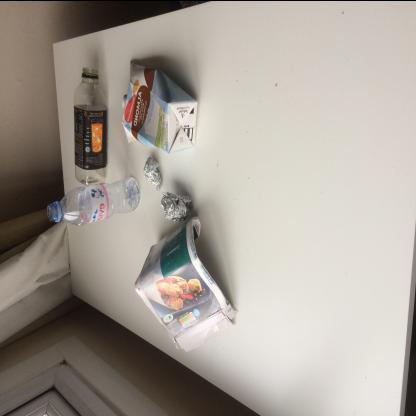karton: (134, 214, 240, 352), (122, 61, 198, 153)
metal: (160, 191, 192, 221), (144, 156, 164, 192)
plastik: (46, 174, 140, 224), (73, 66, 107, 184)
